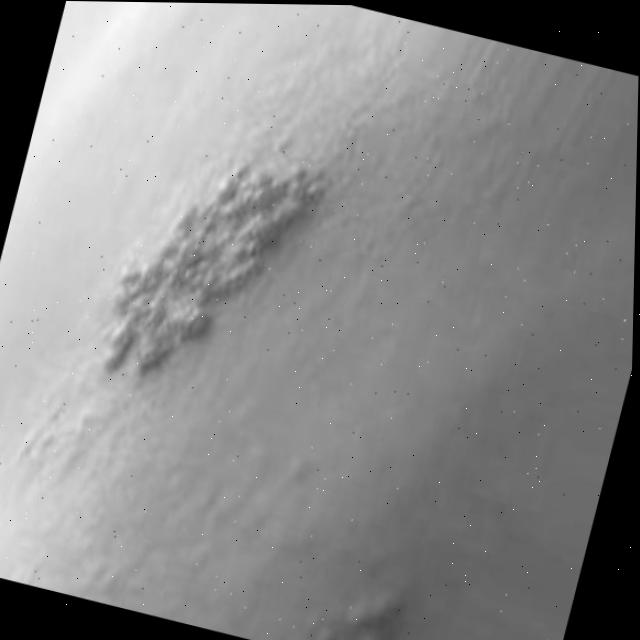Shingles: (90, 116, 345, 418), (289, 562, 414, 640)
